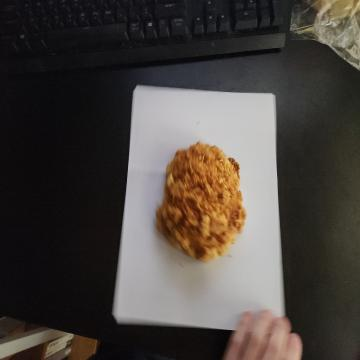soboru_bread: (152, 139, 245, 268)
